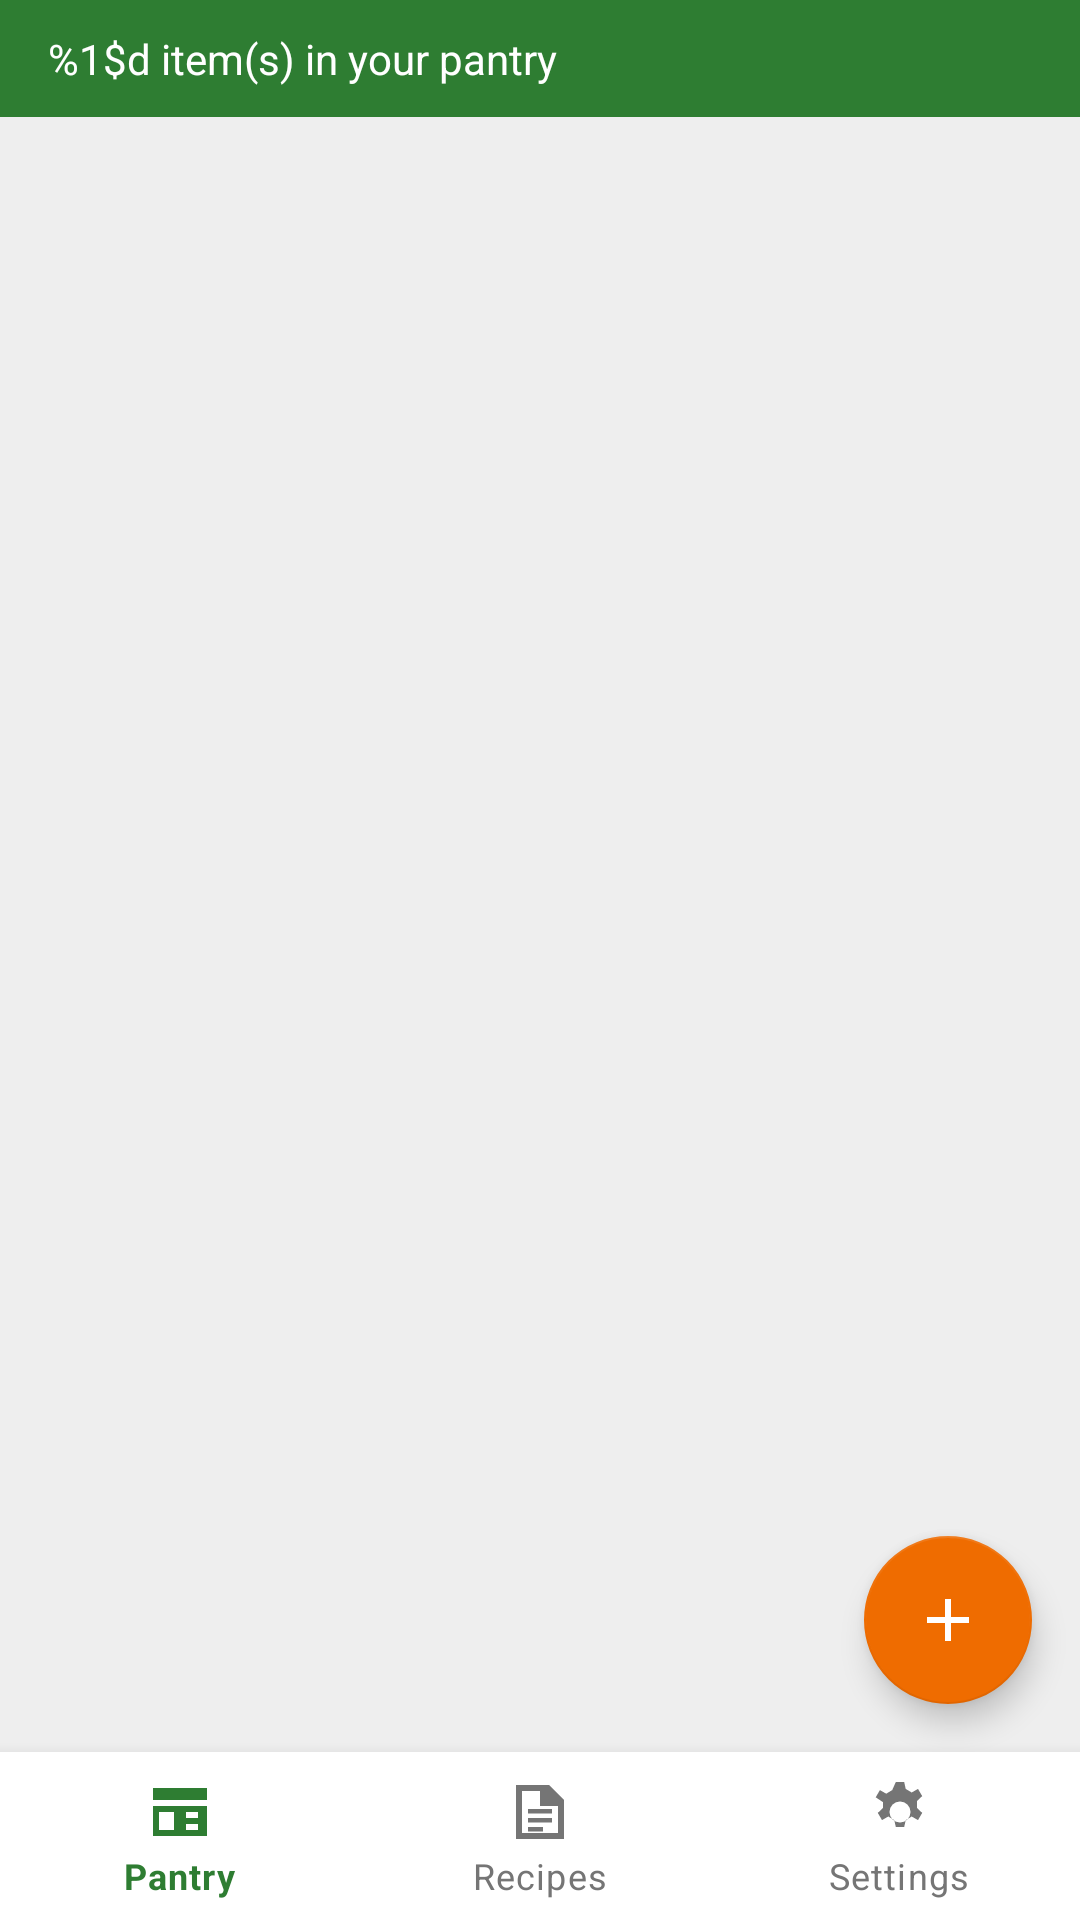

Where icons sit on this 1080px x 1920px app screen, as (x1=x1, y1=y1, x2=x2, y2=y2):
Add ingredient: (x1=864, y1=1536, x2=1032, y2=1704)
